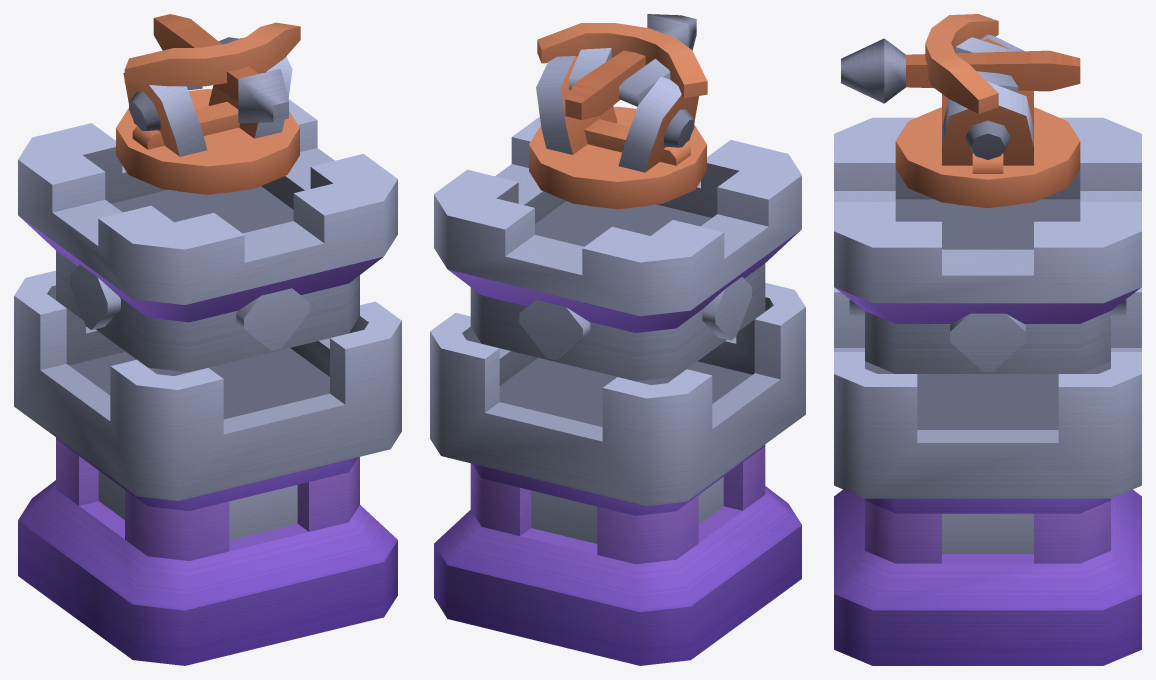
File: tower_ballista.glb
3 renders of one model, left to right at view 1: azimuth 30°, elevation 25°; view 2: azimuth 150°, elevation 25°; view 3: azimuth 270°, elevation 25°, orthographic. The views are drawn at different scales.
Parts seen in each view (by area): view 1: tower-square-bottom-c_b; view 2: tower-square-bottom-c_b; view 3: tower-square-bottom-c_b.
Part boxes in pixels (box(x1,y1,x2,y2)): tower-square-bottom-c_b: box(14, 14, 401, 665); tower-square-bottom-c_b: box(430, 14, 805, 665); tower-square-bottom-c_b: box(834, 14, 1141, 665).
Bounding box in the file's own units: 1.1 × 2.2 × 1.1.
Materials: 4 (4 with a texture image).
